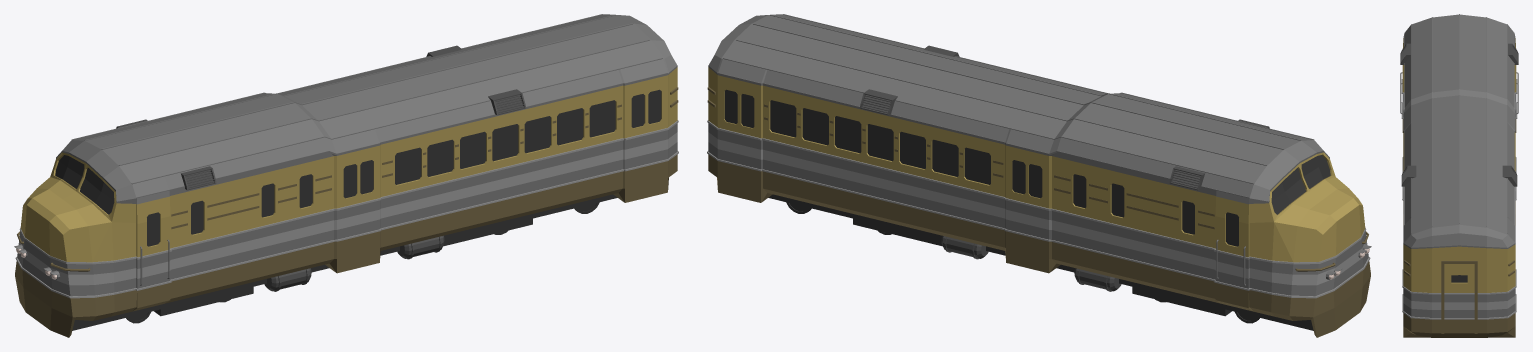
File: CargoTrain_Front.glb
3 views of the same model, side by side, from view 1: azimuth 30°, elevation 25°; view 2: azimuth 150°, elevation 25°; view 3: azimuth 270°, elevation 25° (orthographic). The views are drawn at different scales.
Visible parts, largest first — view 1: Train; view 2: Train; view 3: Train.
Part boxes in pixels (bbox=[...]): Train: bbox=[14, 14, 678, 337]; Train: bbox=[707, 14, 1371, 337]; Train: bbox=[1400, 14, 1518, 337].
Size of the model in its own units: 10.35 by 2.68 by 2.15.
